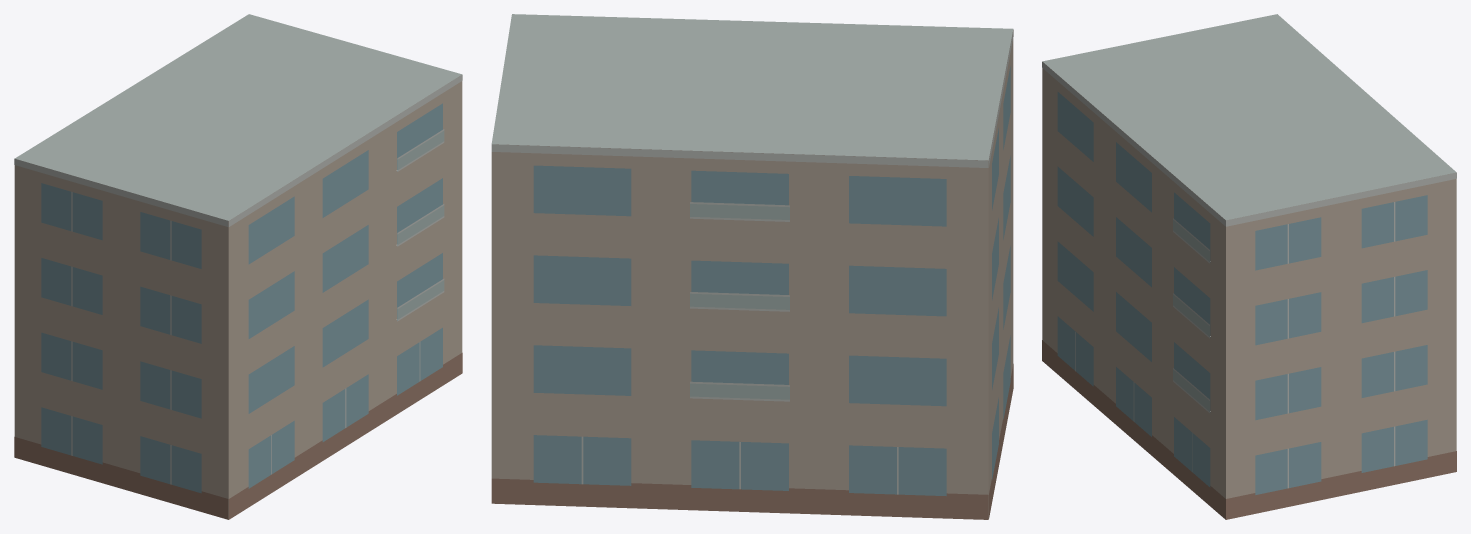
The model's file is survey-upis-32738313.glb.
The picture shows the model from 3 angles, left to right: view 1: azimuth 30°, elevation 25°; view 2: azimuth 150°, elevation 25°; view 3: azimuth 270°, elevation 25°; orthographic projection. The views are drawn at different scales.
Visible parts, largest first — view 1: survey-upis-32738313.tmp; view 2: survey-upis-32738313.tmp; view 3: survey-upis-32738313.tmp.
Boxes of the visible parts, box(x1,y1,x2,y2) form: survey-upis-32738313.tmp: box(14, 14, 462, 519); survey-upis-32738313.tmp: box(491, 14, 1013, 519); survey-upis-32738313.tmp: box(1042, 14, 1456, 519).
Bounding box in the file's own units: 16.95 × 11.46 × 14.39.
